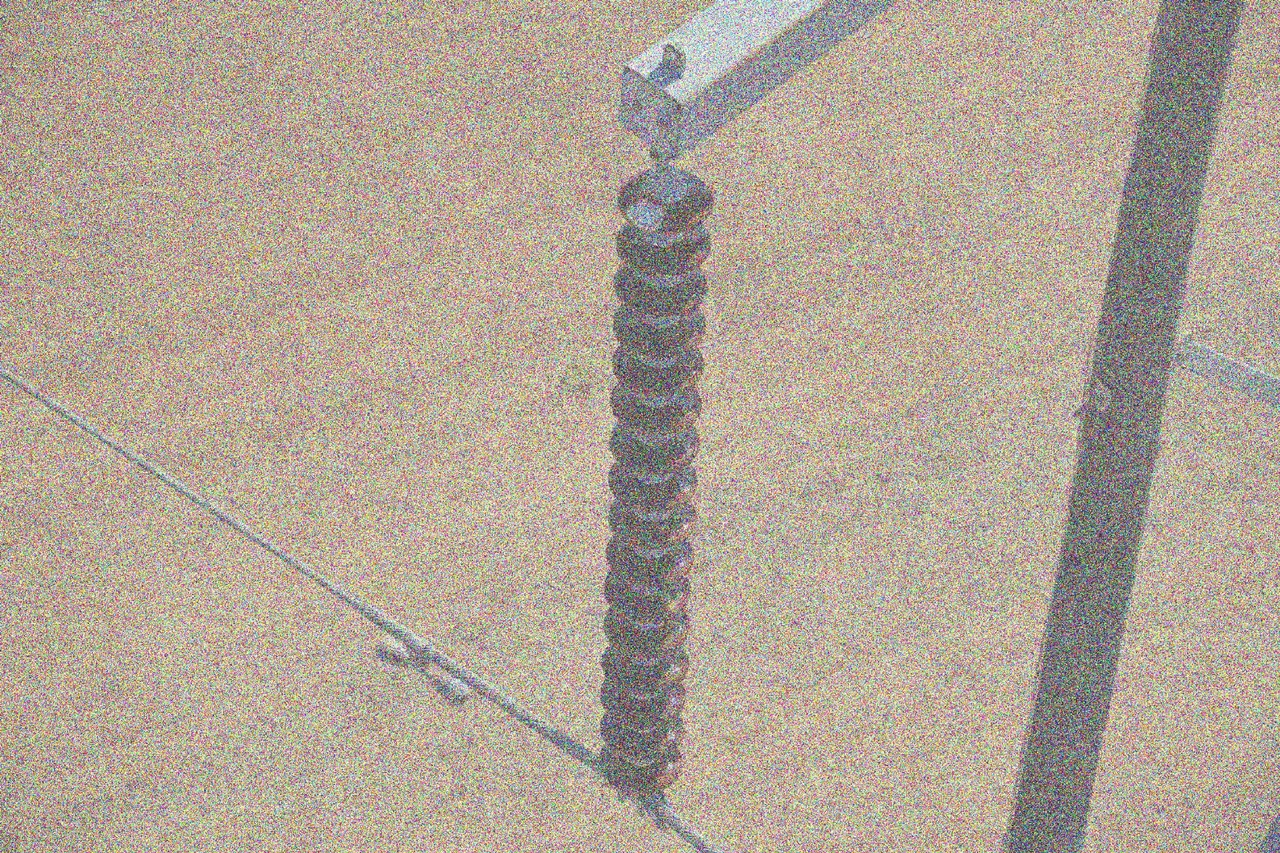Flashover damage: (612, 162, 717, 236), (609, 301, 708, 359), (603, 579, 693, 627), (606, 500, 696, 547), (600, 608, 690, 655)
No issues: (612, 263, 708, 316), (608, 383, 704, 436), (611, 344, 707, 396), (607, 423, 701, 475), (605, 460, 699, 510), (595, 680, 689, 730), (594, 709, 688, 759), (594, 744, 688, 794), (601, 648, 695, 697), (617, 231, 712, 275), (602, 546, 696, 588)
String: (592, 162, 719, 793)
